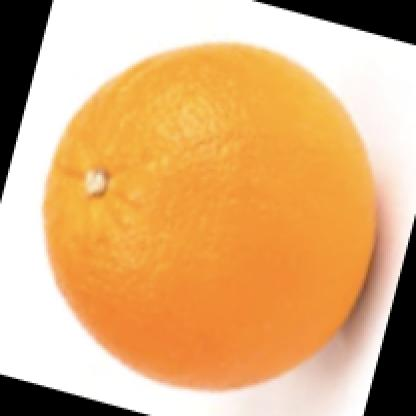fresh: (48, 45, 379, 395)
